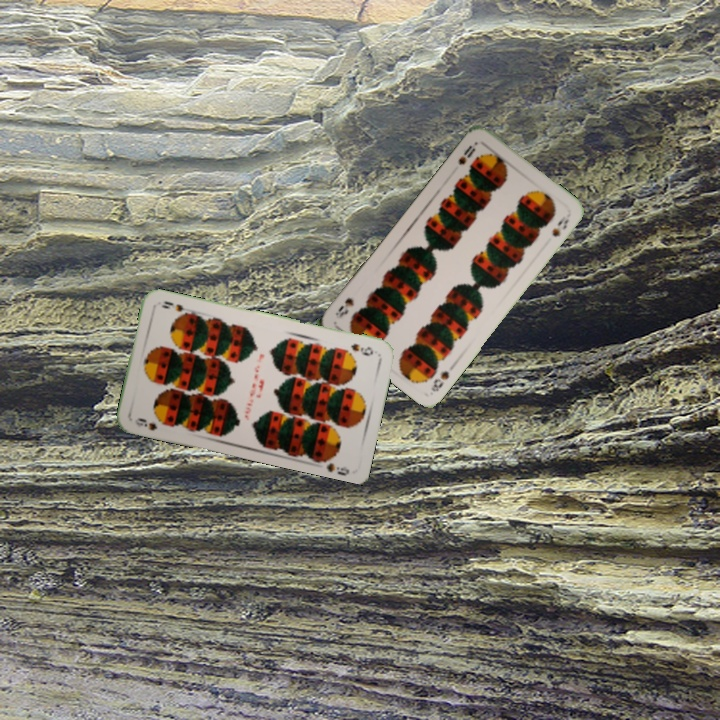S8: (427, 360, 457, 394), (454, 141, 478, 167)
S9: (131, 414, 171, 433), (347, 339, 376, 358)
